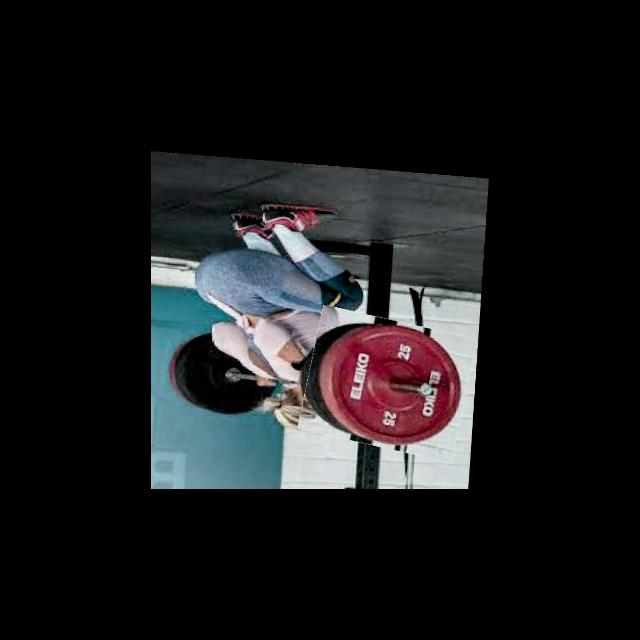barbell: (305, 306, 475, 453)
